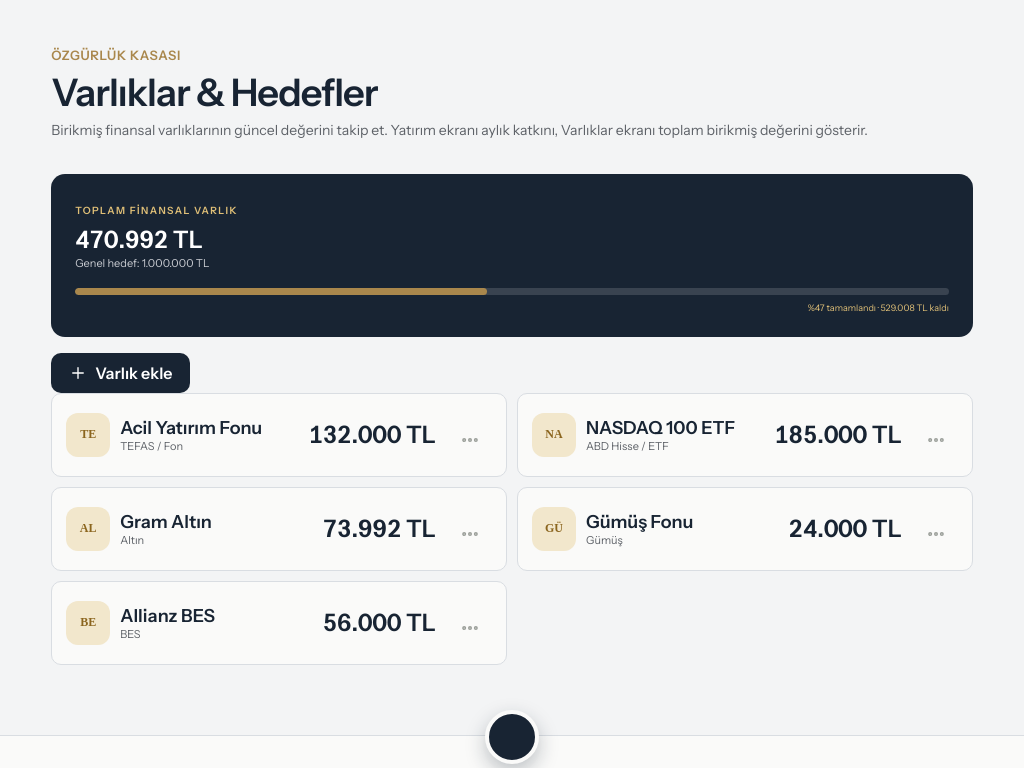
Scenario: UX polish pack › asset detail sheet opens via overflow menu
Click the button named "Varlık işlemleri" next to "132.000 TL" at [470, 440], box [448, 418, 492, 462]
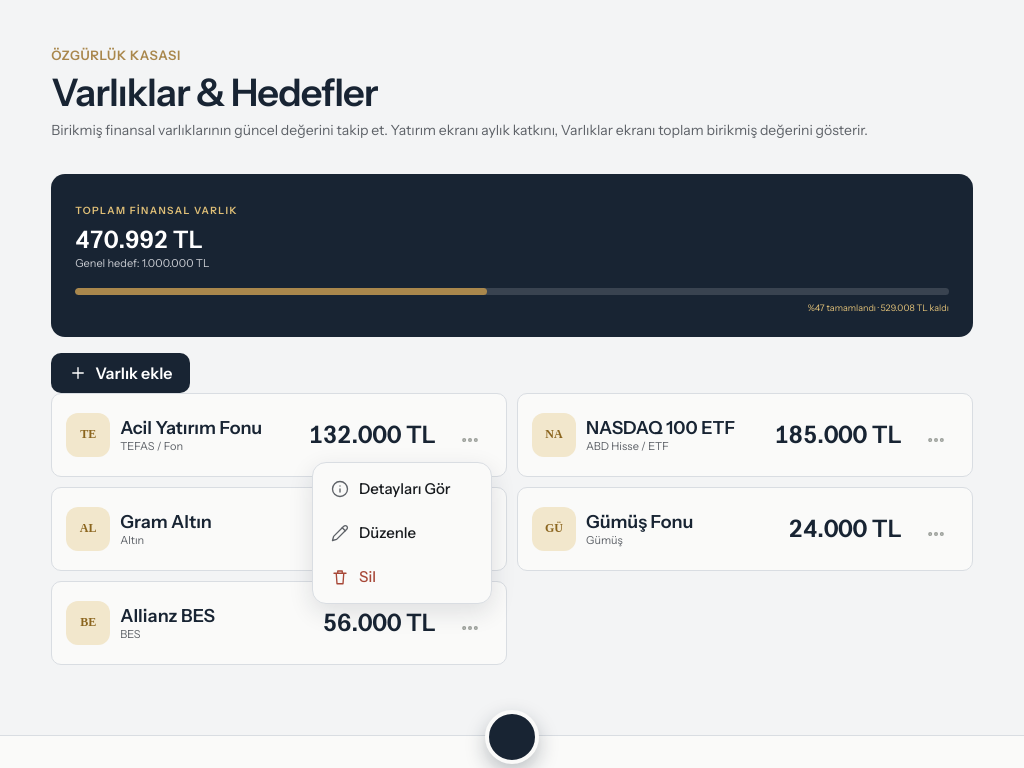
Click the menu item "Detayları Gör" at [402, 489], box [317, 467, 487, 511]
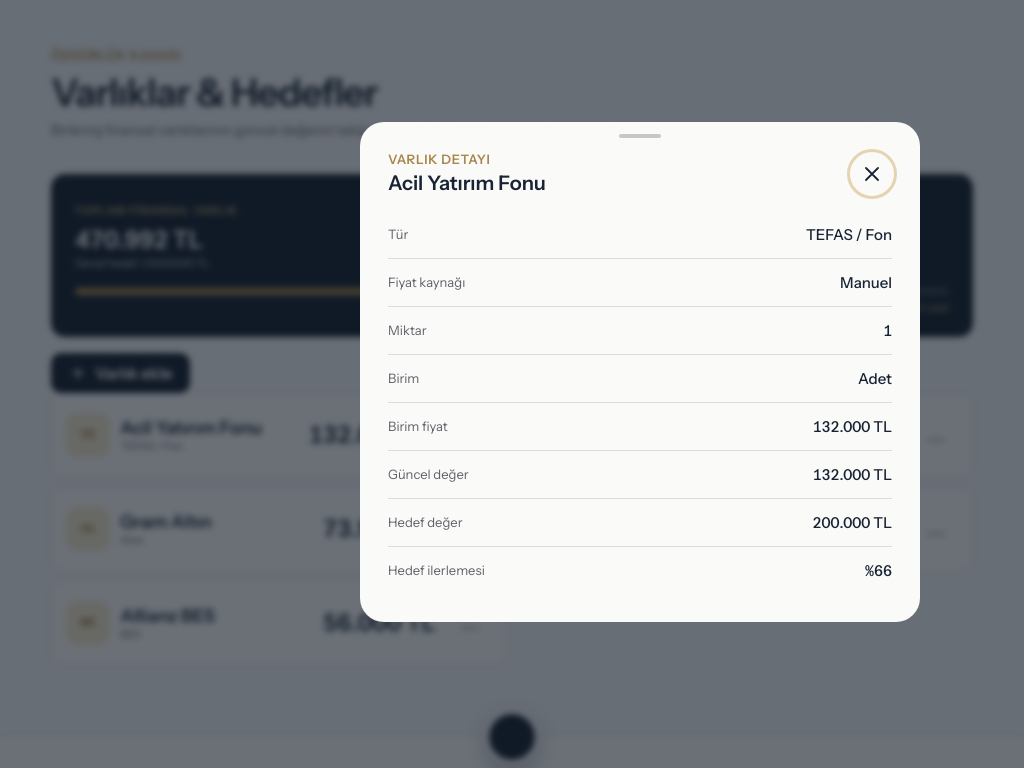
Expected: the text "VARLIK DETAYI" is shown, [388, 151, 490, 167]
Expected: the text "Miktar" is shown, [388, 322, 427, 338]
Expected: the text "Birim" is shown, [388, 370, 419, 386]
